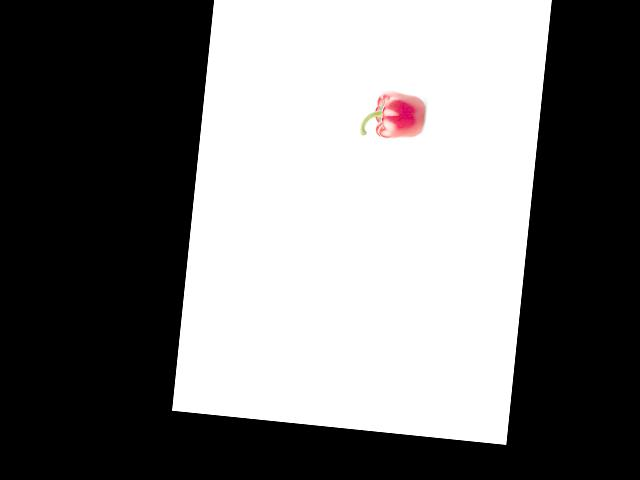bell_pepper: (359, 89, 427, 143)
